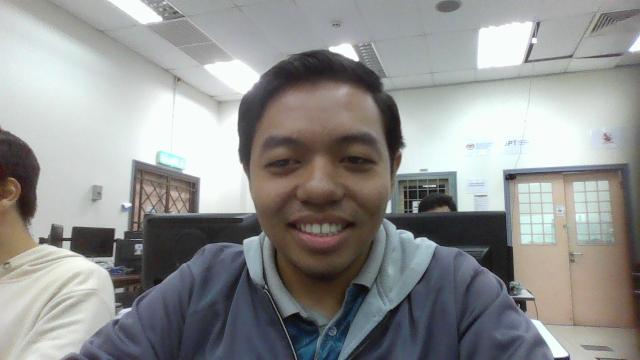senang: (239, 71, 392, 299)
